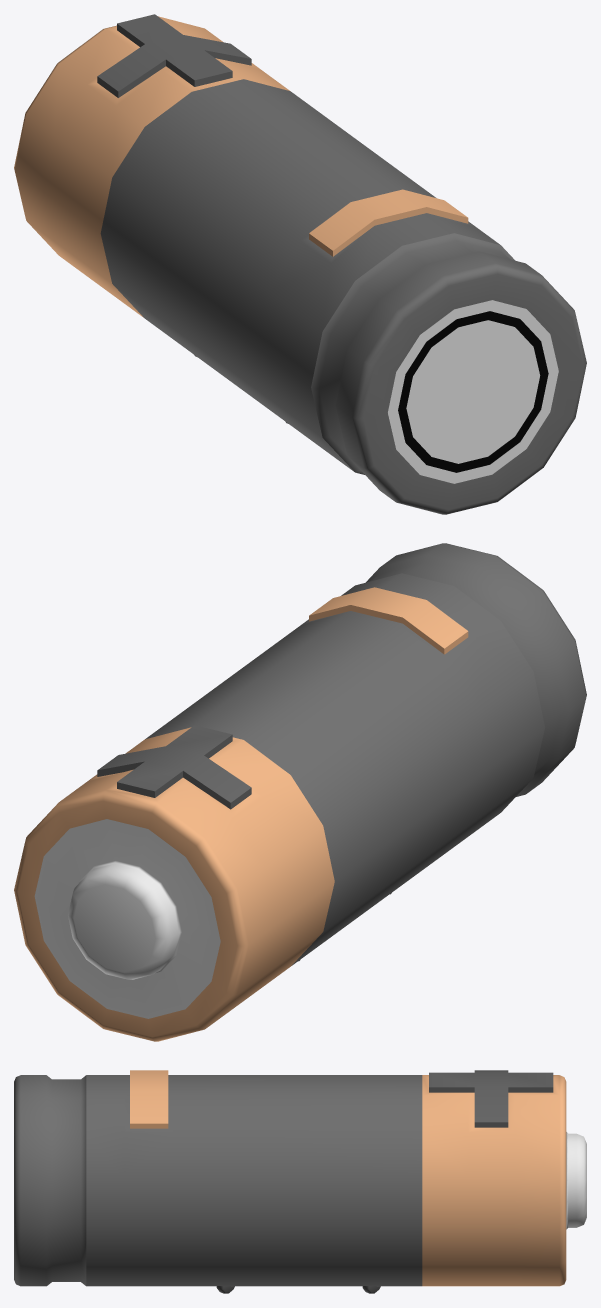
The model's file is AssetsGas.fbx.
3 views of the same model, one above another, from view 1: azimuth 30°, elevation 25°; view 2: azimuth 150°, elevation 25°; view 3: azimuth 270°, elevation 25° (orthographic). The views are drawn at different scales.
Parts seen in each view (by area): view 1: Battery1; view 2: Battery1; view 3: Battery1.
Boxes of the visible parts, x1,y1,x2,y2 form: Battery1: [14, 14, 586, 514]; Battery1: [14, 543, 586, 1041]; Battery1: [14, 1070, 586, 1286].
Bounding box in the file's own units: 2 × 2 × 5.3.
